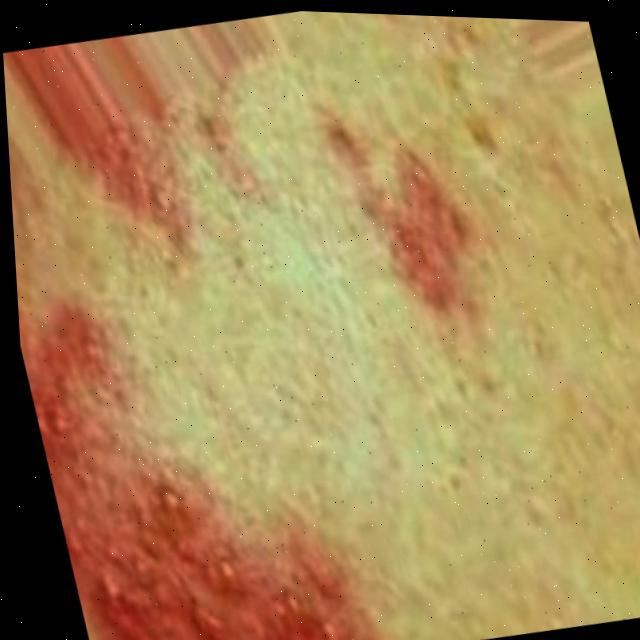Shingles: (16, 272, 374, 640), (338, 123, 494, 330), (85, 89, 274, 259)
